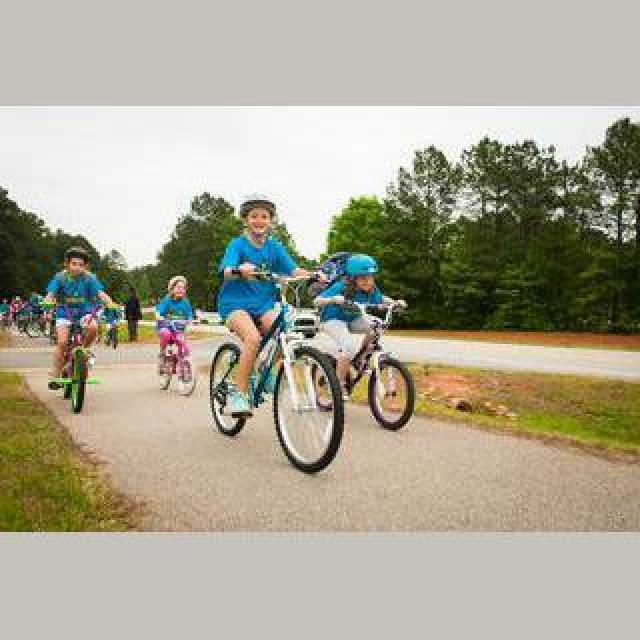MC-Bike: (216, 198, 308, 404), (314, 256, 408, 400), (42, 248, 120, 388), (154, 274, 196, 384), (124, 288, 142, 340)
Person: (210, 280, 342, 474), (300, 298, 416, 432), (48, 308, 104, 414), (156, 324, 198, 396), (158, 326, 194, 394)
